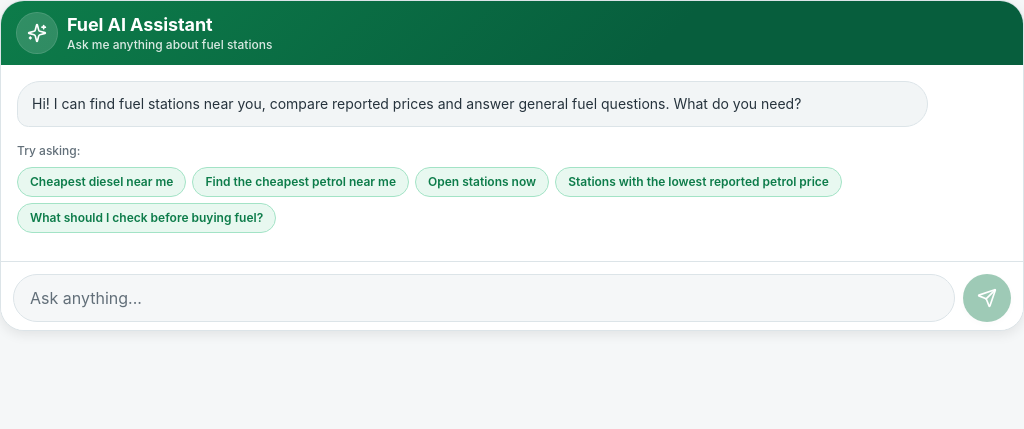
Test case: conversational questions › answers a normal question without asking for a location
The width and height of the screenshot is (1024, 429).
Type "Hello, what can you help me with?" into the field named "Ask Fuel AI". click: [484, 298]
box: [13,274,955,322]
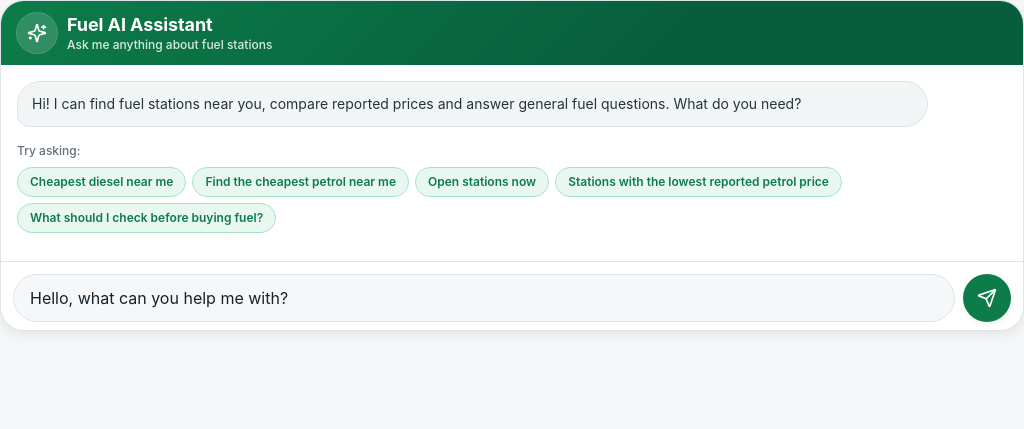
Click the button named "ask fuel ai". click: [987, 298]
box: [963,274,1011,322]
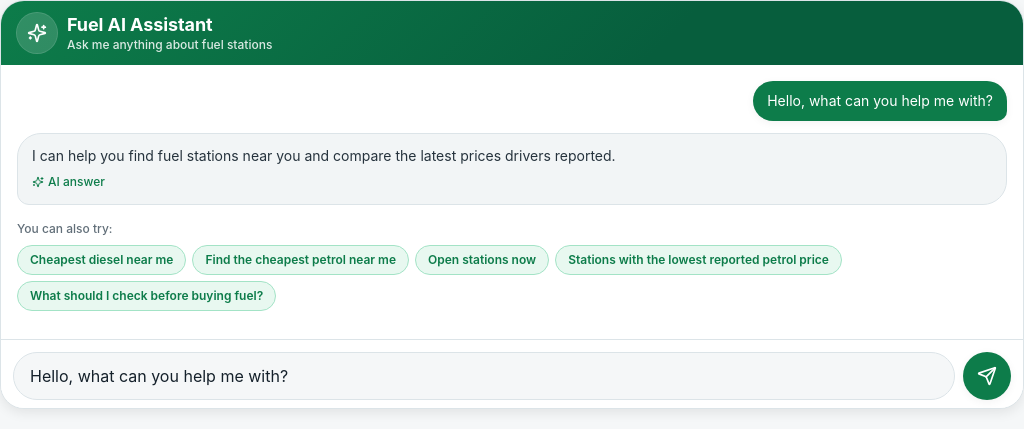
Expected: the element with test id "ai-conversation-answer" shows "I can help you find fuel stations", [32,147,616,164]
